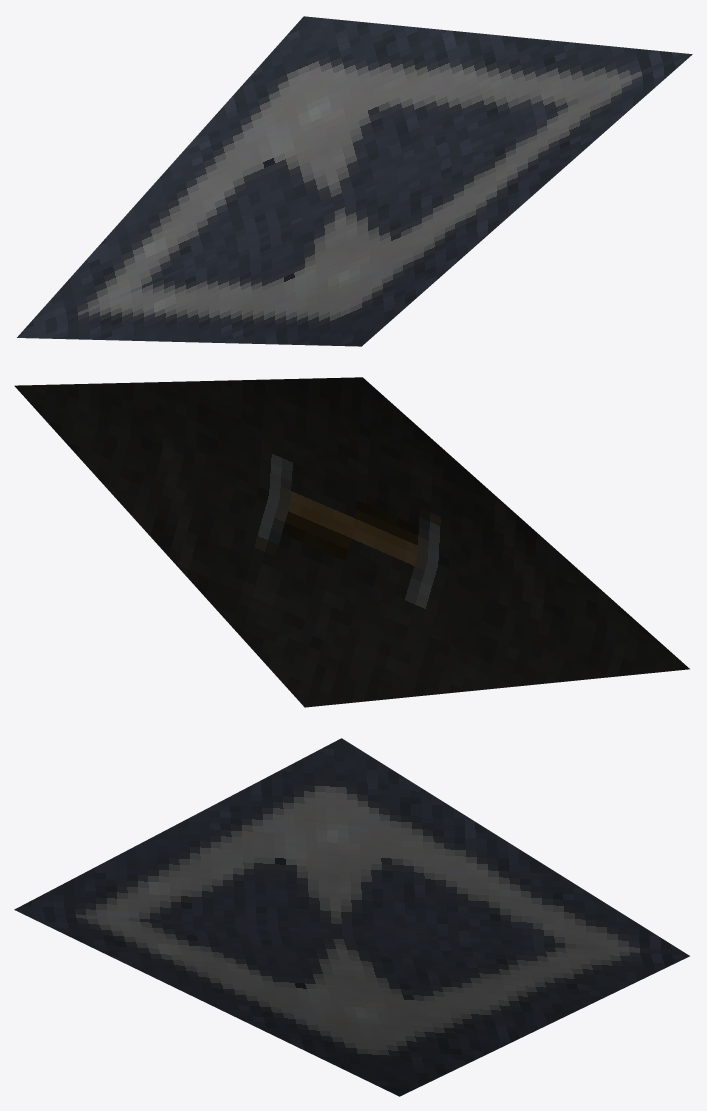
The picture shows the model from 3 angles, top to bottom: view 1: azimuth 30°, elevation 25°; view 2: azimuth 150°, elevation 25°; view 3: azimuth 330°, elevation 25°; orthographic projection.
Visible parts, largest first — view 1: it223; view 2: it223; view 3: it223.
Boxes of the visible parts, <box> form: it223: <box>17,16,692,346</box>; it223: <box>14,377,689,707</box>; it223: <box>14,738,689,1096</box>.
Size of the model in its own units: 3.05 by 1.48 by 0.1782.
Materials: 2 (2 with a texture image).
